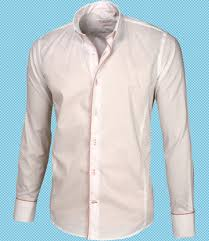C_shirt: (15, 1, 197, 241)
